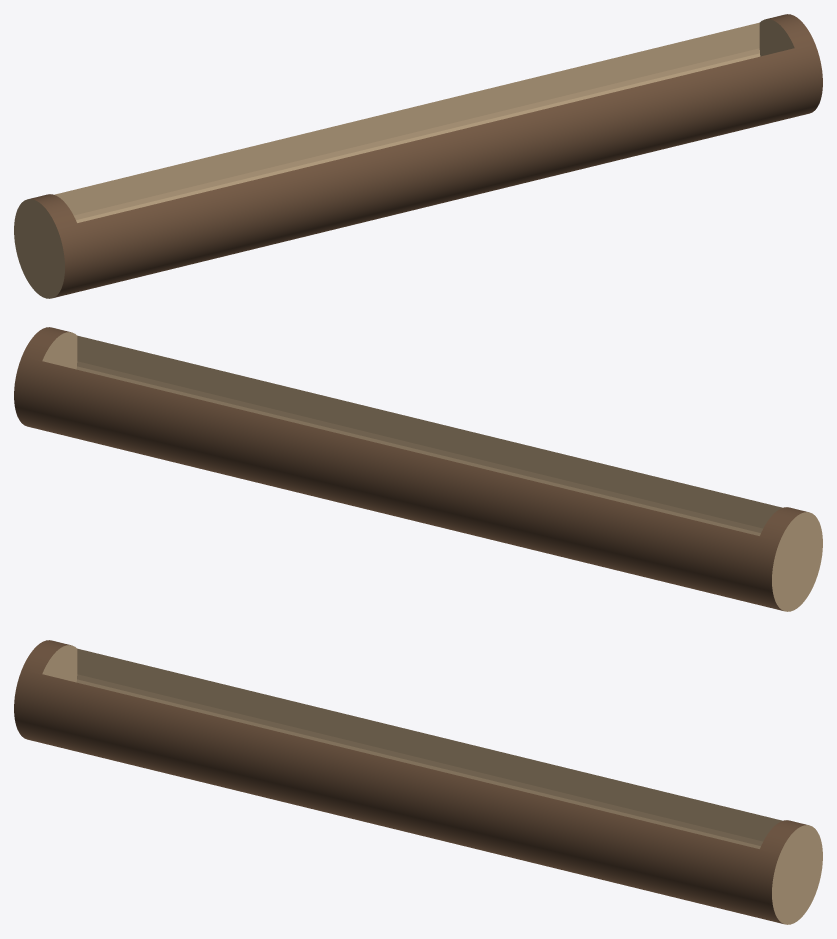
File: SM_RawLog_300_Trough.fbx
3 renders of one model, top to bottom at view 1: azimuth 30°, elevation 25°; view 2: azimuth 150°, elevation 25°; view 3: azimuth 330°, elevation 25°, orthographic.
Visible parts, largest first — view 1: RawLog_300_Trough; view 2: RawLog_300_Trough; view 3: RawLog_300_Trough.
Part boxes in pixels (box(x1,y1,x2,y2)): RawLog_300_Trough: box(14, 14, 822, 298); RawLog_300_Trough: box(14, 327, 822, 611); RawLog_300_Trough: box(14, 640, 822, 924).
Size of what is drawn, in the model's own units: 3 by 0.35 by 0.35.
